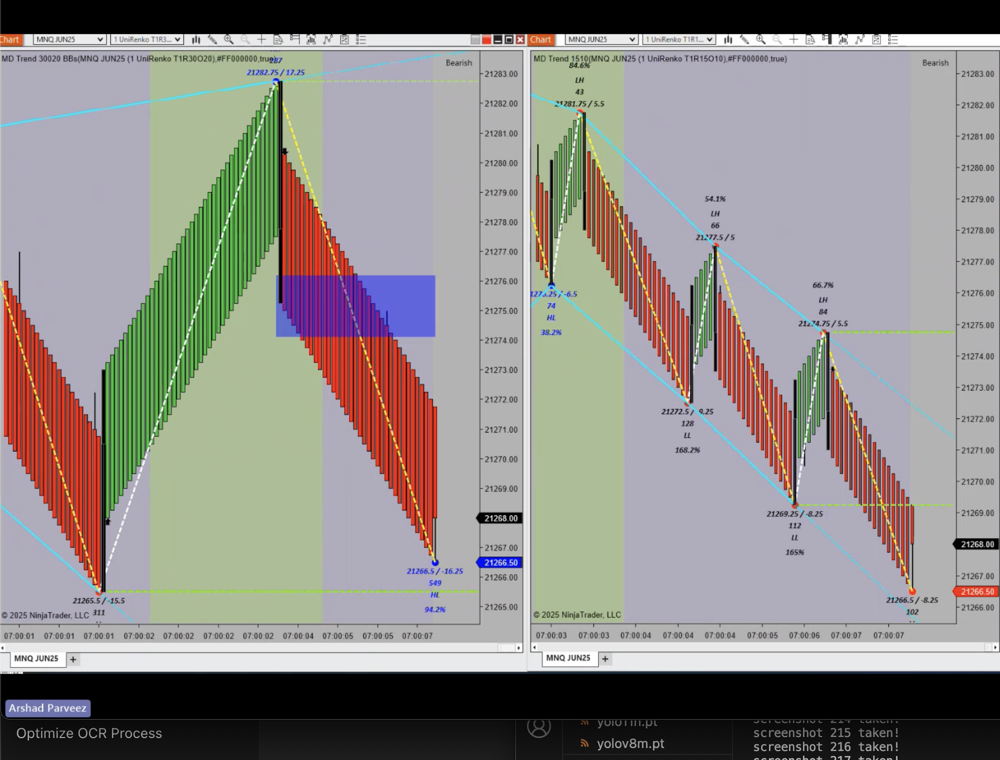HL: (543, 310, 564, 330), (426, 587, 447, 605)
LH: (814, 292, 840, 309), (707, 205, 728, 222), (570, 72, 593, 87)
LL: (673, 426, 702, 445), (784, 529, 807, 547)
